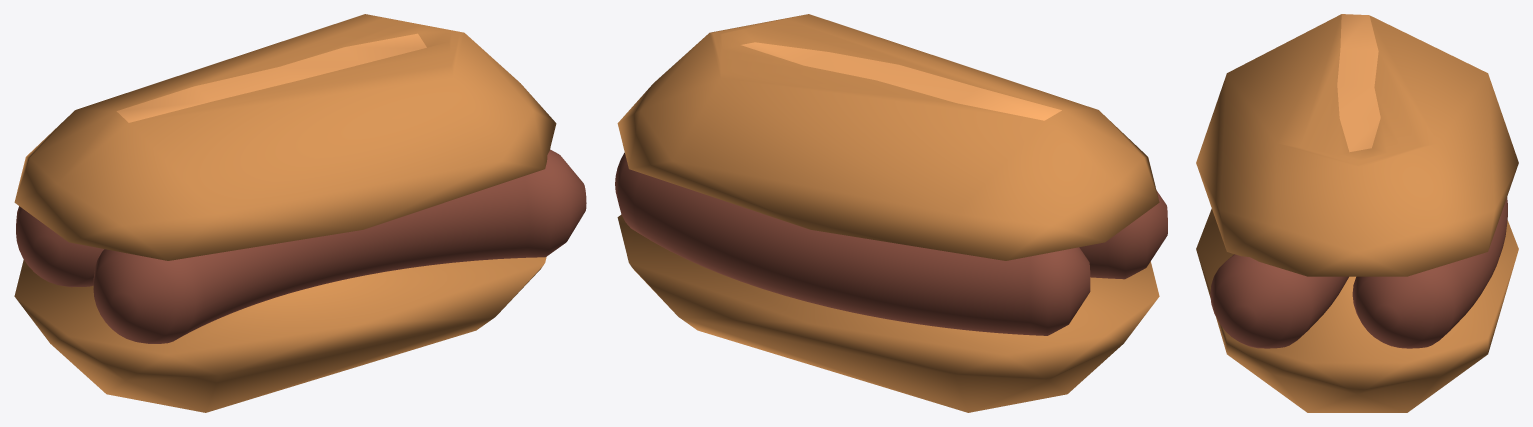
The model's file is SausageBred-Lowpoly.fbx.
3 renders of one model, left to right at view 1: azimuth 30°, elevation 25°; view 2: azimuth 150°, elevation 25°; view 3: azimuth 270°, elevation 25°, orthographic. The views are drawn at different scales.
Visible parts, largest first — view 1: BreatSausage; view 2: BreatSausage; view 3: BreatSausage.
Part boxes in pixels (x1,y1,x2,y2): BreatSausage: (14, 14, 586, 412); BreatSausage: (615, 14, 1167, 412); BreatSausage: (1196, 14, 1518, 412).
Bounding box in the file's own units: 118 × 69.99 × 74.01.
